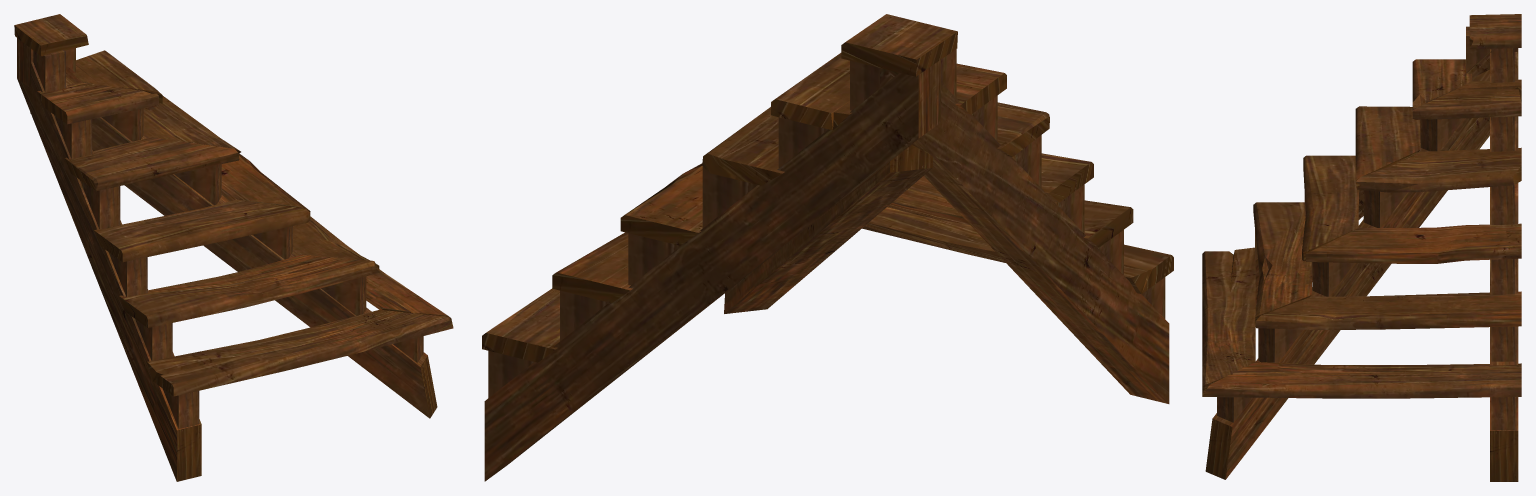
The picture shows the model from 3 angles, left to right: view 1: azimuth 30°, elevation 25°; view 2: azimuth 150°, elevation 25°; view 3: azimuth 270°, elevation 25°; orthographic projection. The views are drawn at different scales.
Visible parts, largest first — view 1: SM_BB_T2_Stairs_OurterCorner_LOD0; view 2: SM_BB_T2_Stairs_OurterCorner_LOD0; view 3: SM_BB_T2_Stairs_OurterCorner_LOD0.
Boxes of the visible parts, left/top/right/bottom form: SM_BB_T2_Stairs_OurterCorner_LOD0: left=14, top=14, right=453, bottom=481; SM_BB_T2_Stairs_OurterCorner_LOD0: left=482, top=14, right=1173, bottom=481; SM_BB_T2_Stairs_OurterCorner_LOD0: left=1202, top=14, right=1521, bottom=481.
Size of the model in its own units: 1.52 by 1.76 by 1.52.
1 material, 1 textured.
